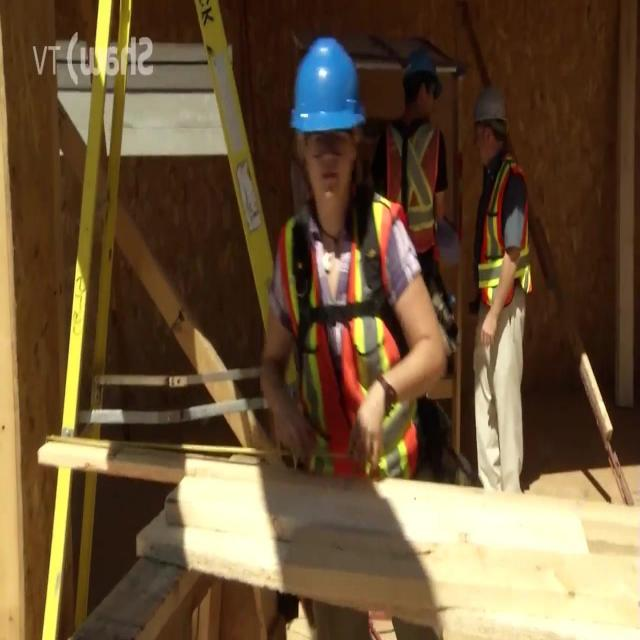Reflective-Jacket: (255, 191, 433, 494), (466, 150, 544, 352), (378, 109, 454, 282)
Safety-Helmet: (281, 25, 376, 153), (392, 38, 448, 106), (466, 76, 517, 146)
